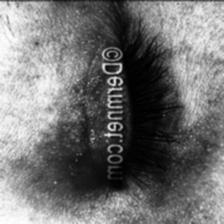Non-Cancerous Skin Condition: (53, 70, 103, 170)
